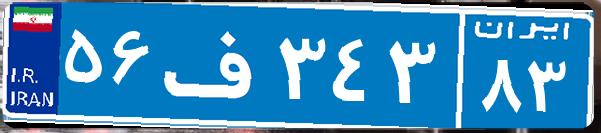3: (385, 28, 445, 110), (273, 28, 330, 110), (525, 38, 570, 115)
4: (330, 28, 385, 110)
5: (57, 26, 110, 107)
6: (110, 28, 158, 105)
8: (475, 38, 525, 113)
ف: (158, 15, 273, 115)
